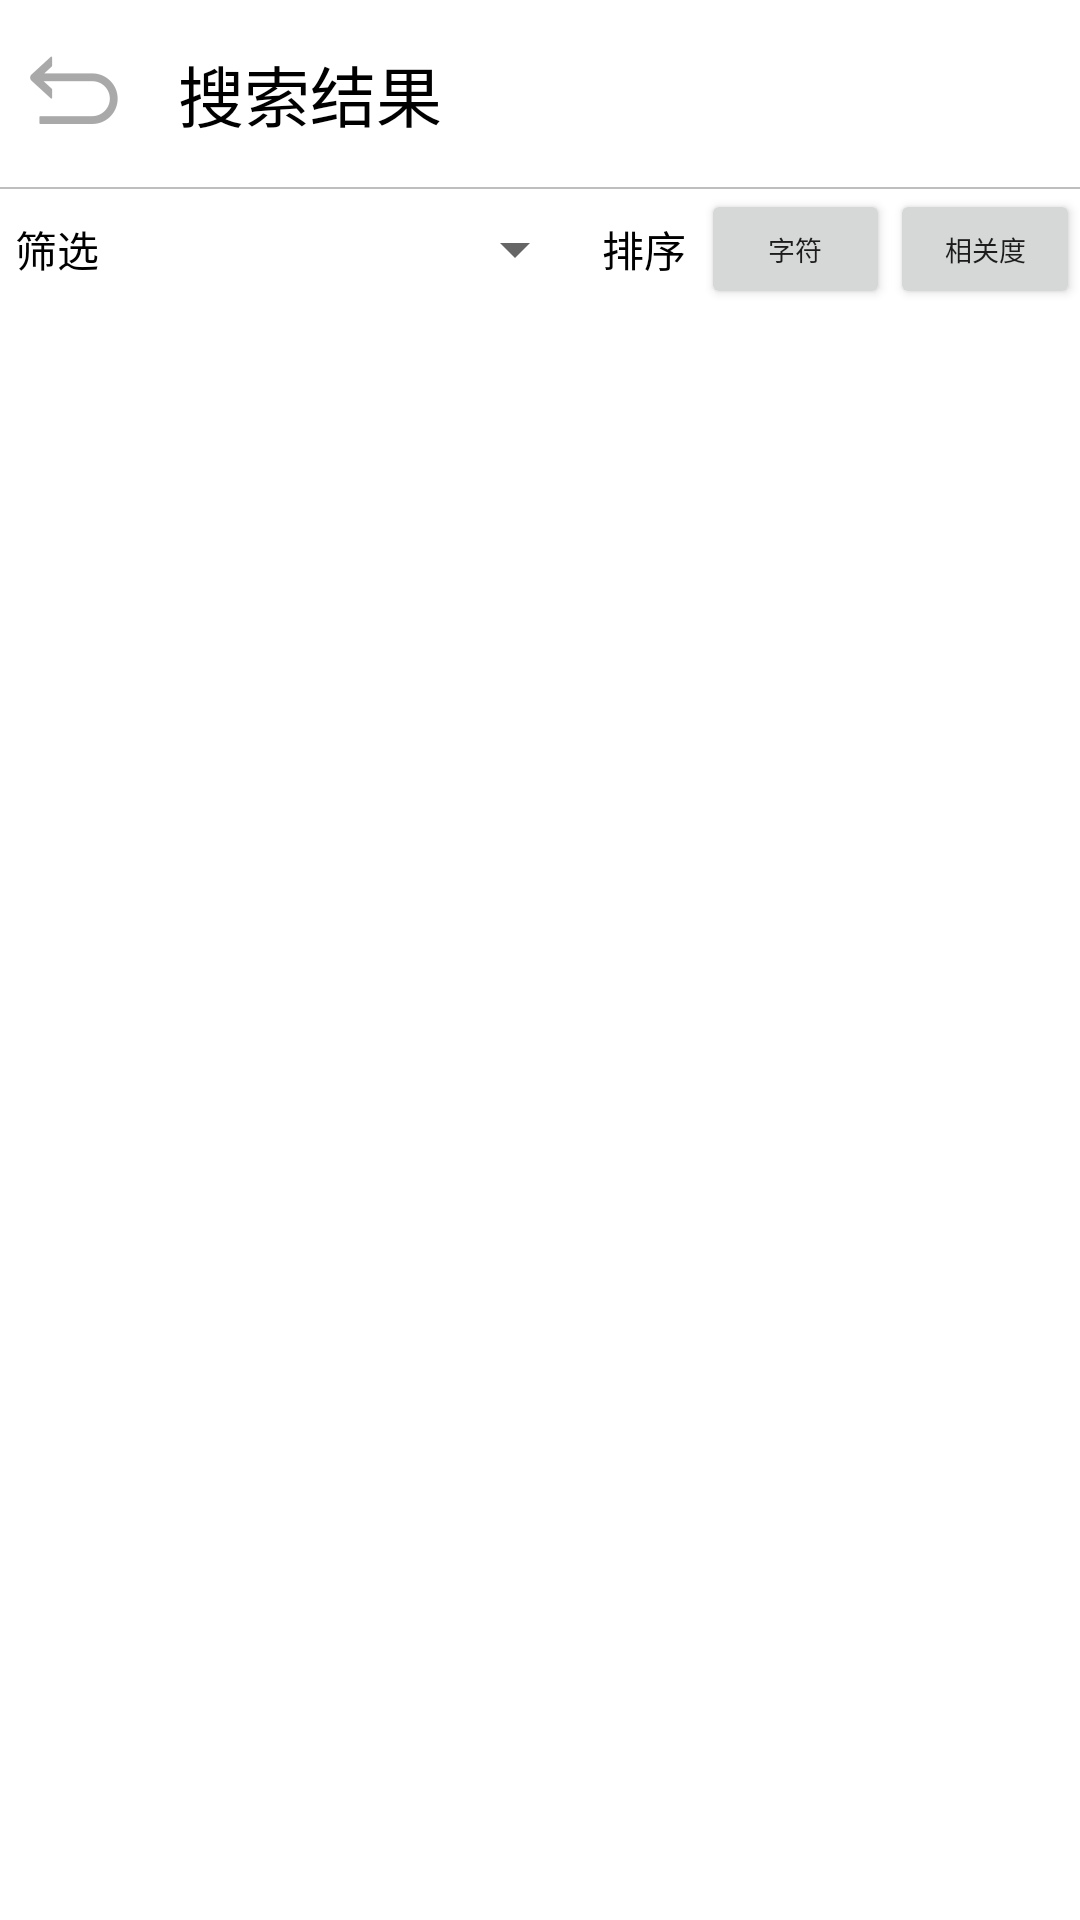

Icon bounding boxes for this 1080w x 1920h phone screenshot, format (x1, y1, x2, y2):
return: (30, 56, 118, 124)
